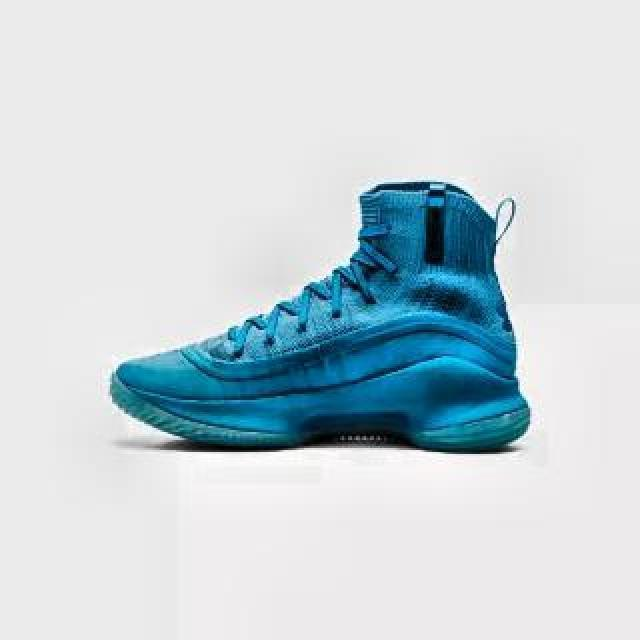shoes: (110, 179, 532, 453)
